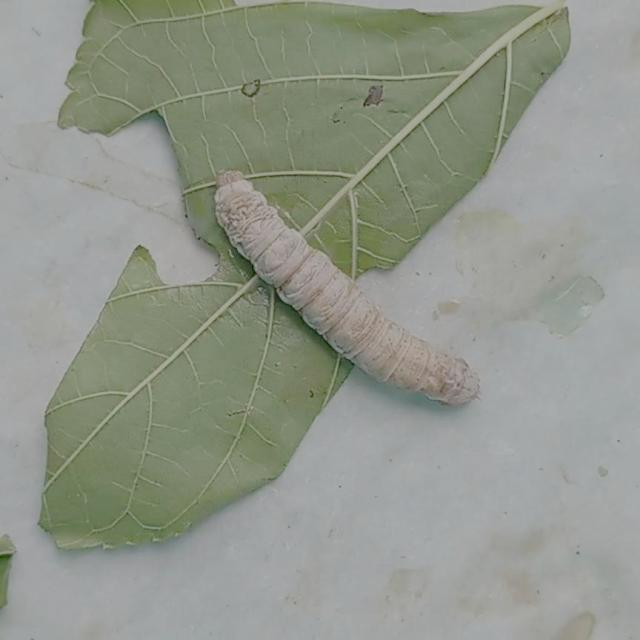Grasserie: (210, 160, 496, 423)
